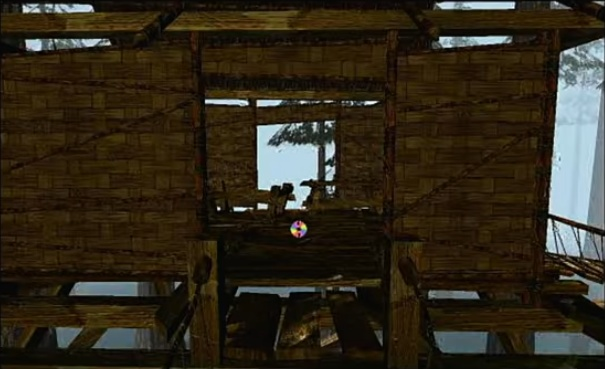Waiting: (287, 217, 310, 239)
